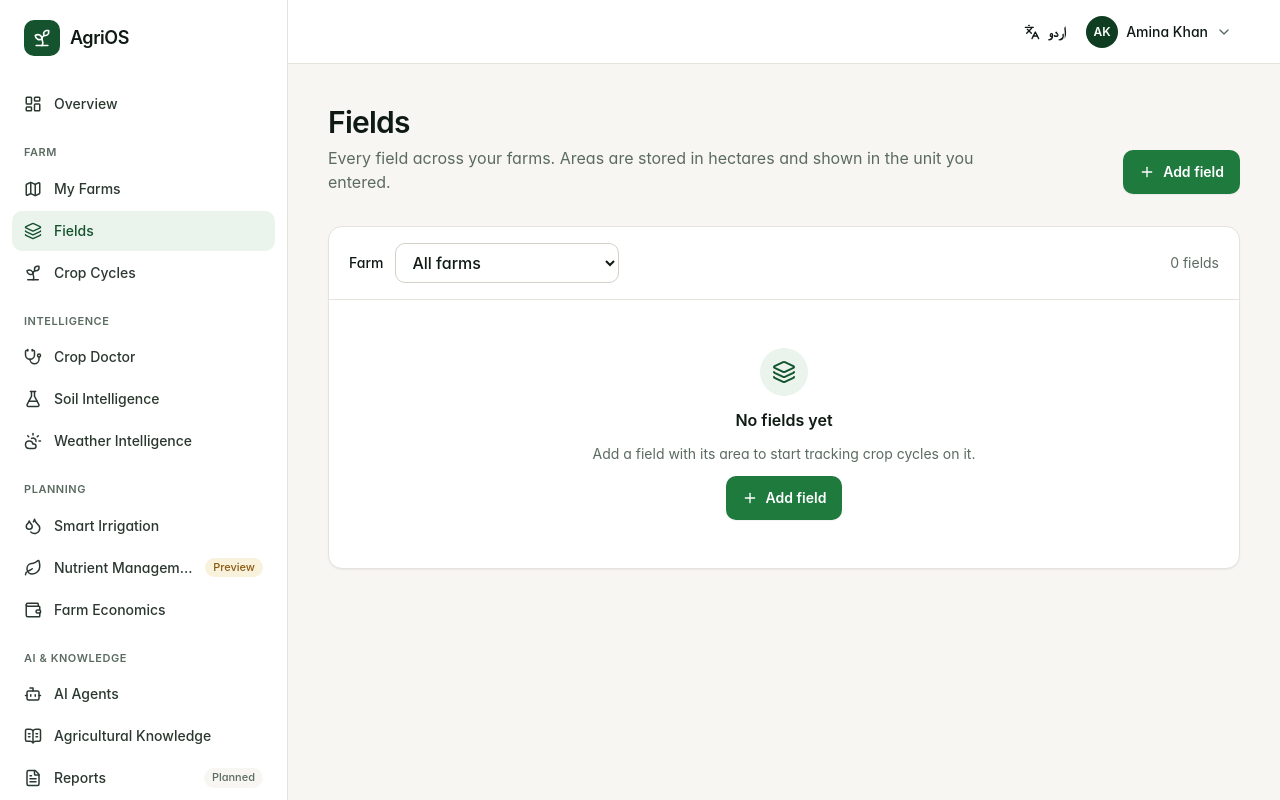
Test: Fields › rejects a non-numeric or over-precise area
Click the 1st button "Add field": click(1182, 172) 1123,150 -> 1240,194
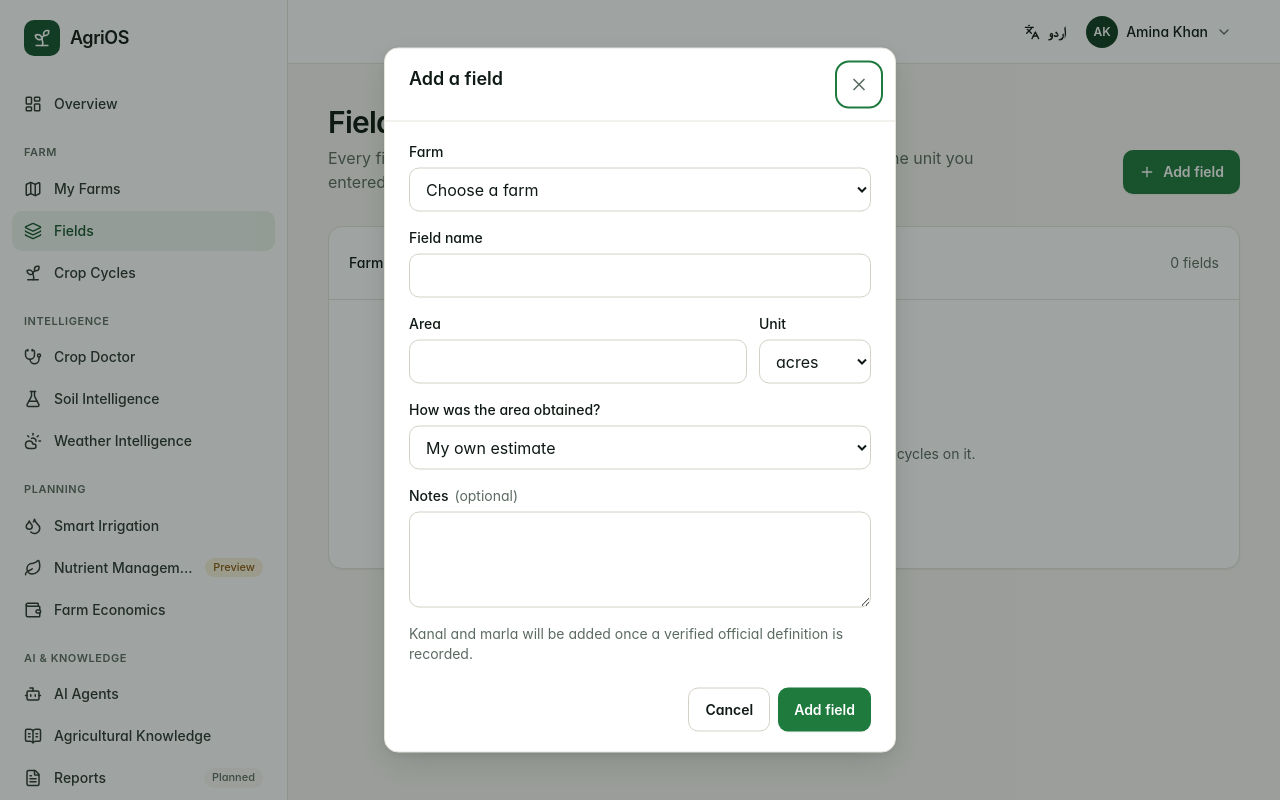
In the field labelled "Area": (578, 362) 409,340 -> 747,384, type "1.00001"
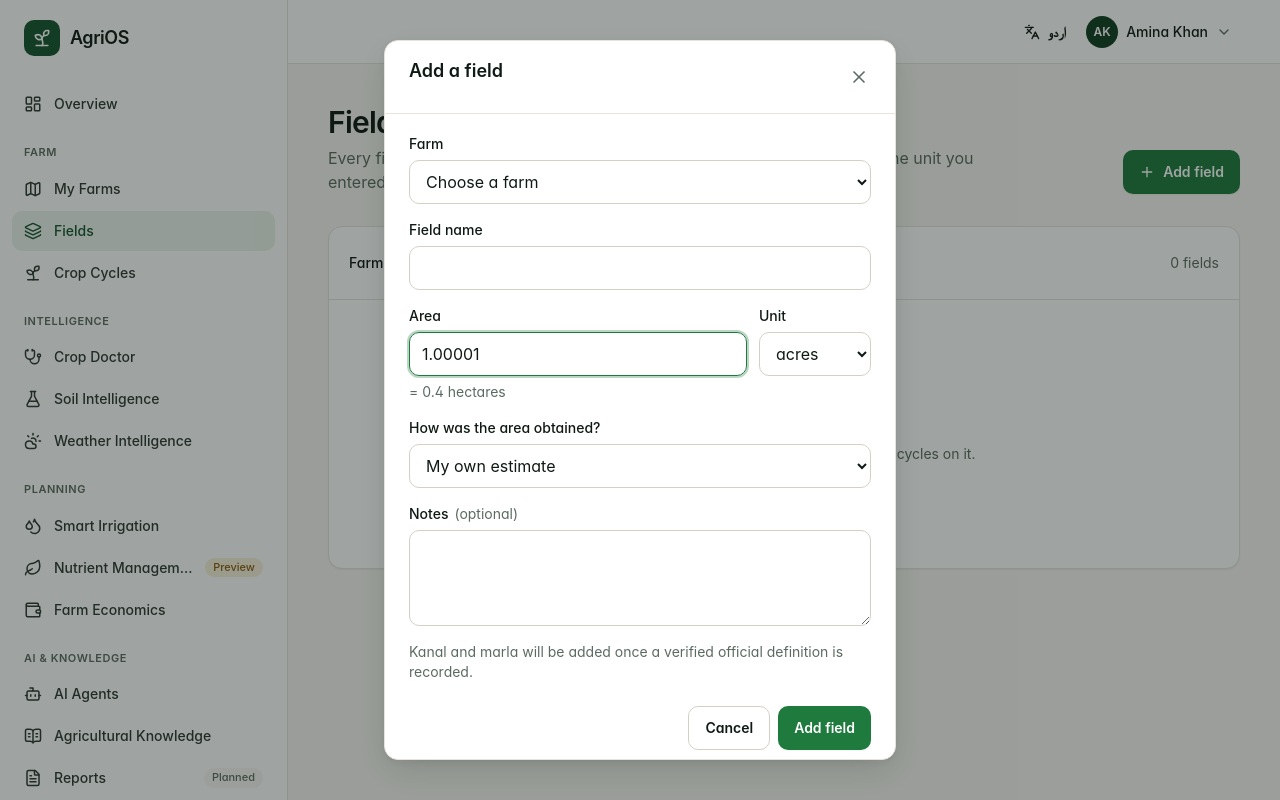
Click the button "Add field": click(825, 728) 778,706 -> 871,750
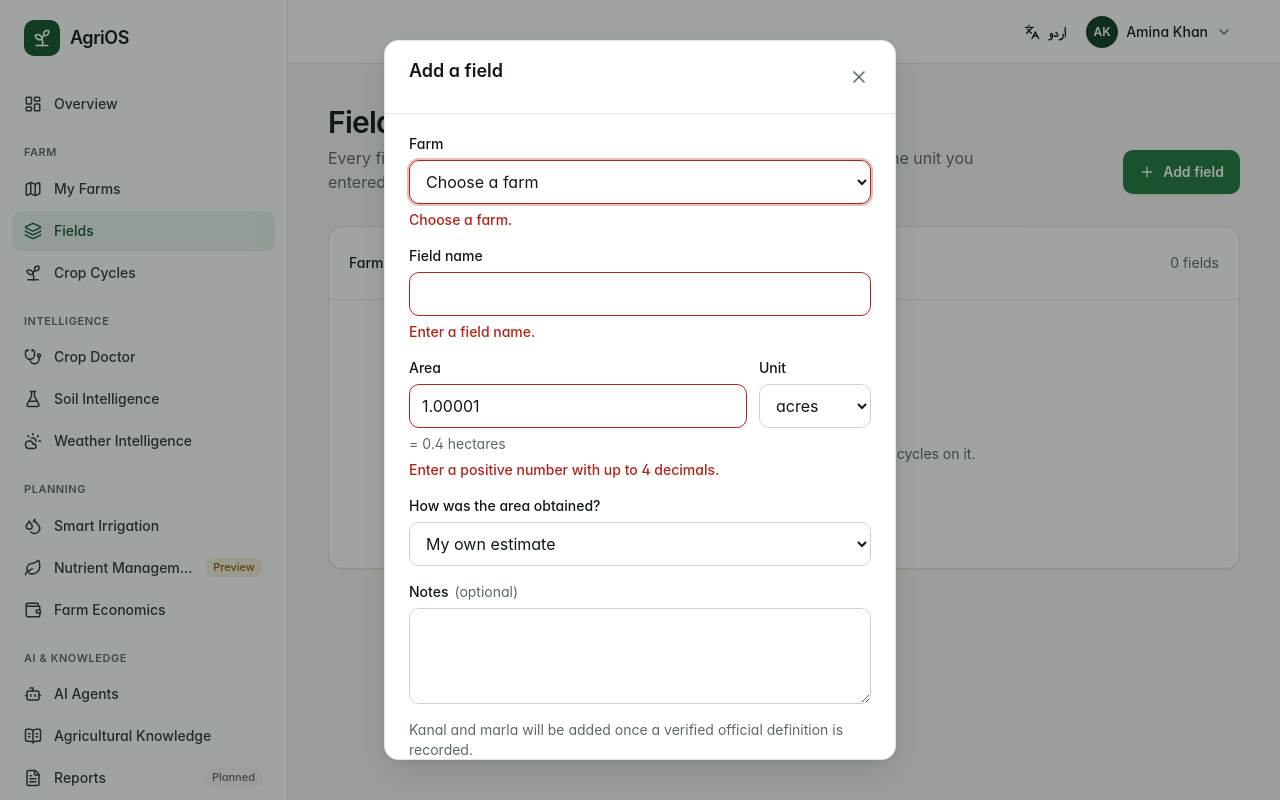
Now the text "Enter a positive number with up to 4 decimals." is shown, box 409,460 -> 747,480
